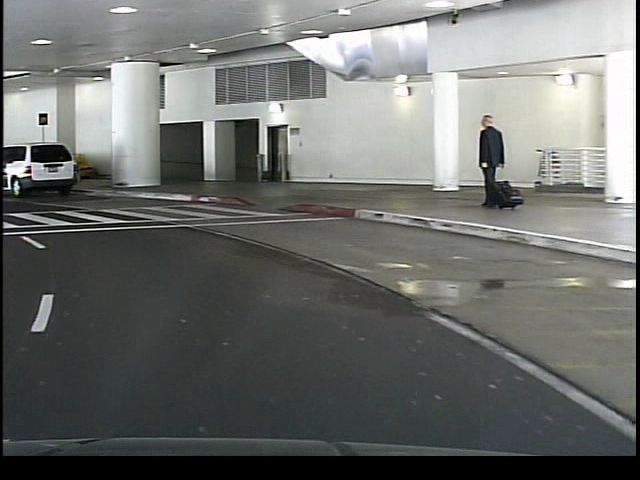person: (467, 110, 501, 211)
